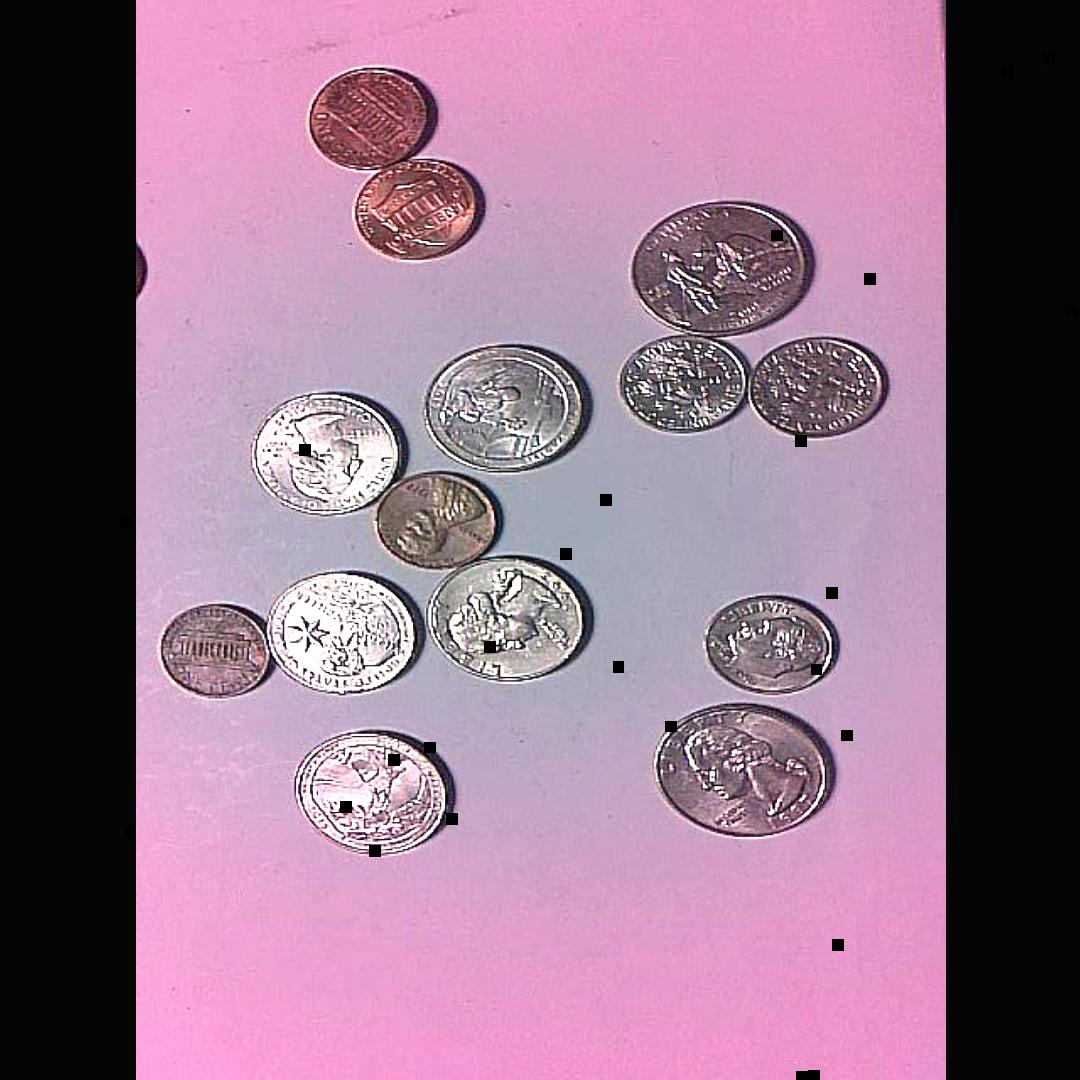Dime: (741, 334, 888, 439), (702, 594, 839, 697), (614, 334, 746, 435)
Penny: (302, 62, 437, 174), (349, 155, 484, 262), (370, 471, 501, 570), (155, 601, 270, 700)
Quarter: (628, 197, 815, 338), (651, 700, 835, 840), (422, 341, 589, 474), (290, 731, 456, 859), (427, 555, 592, 682), (260, 570, 418, 695), (250, 392, 403, 516)
